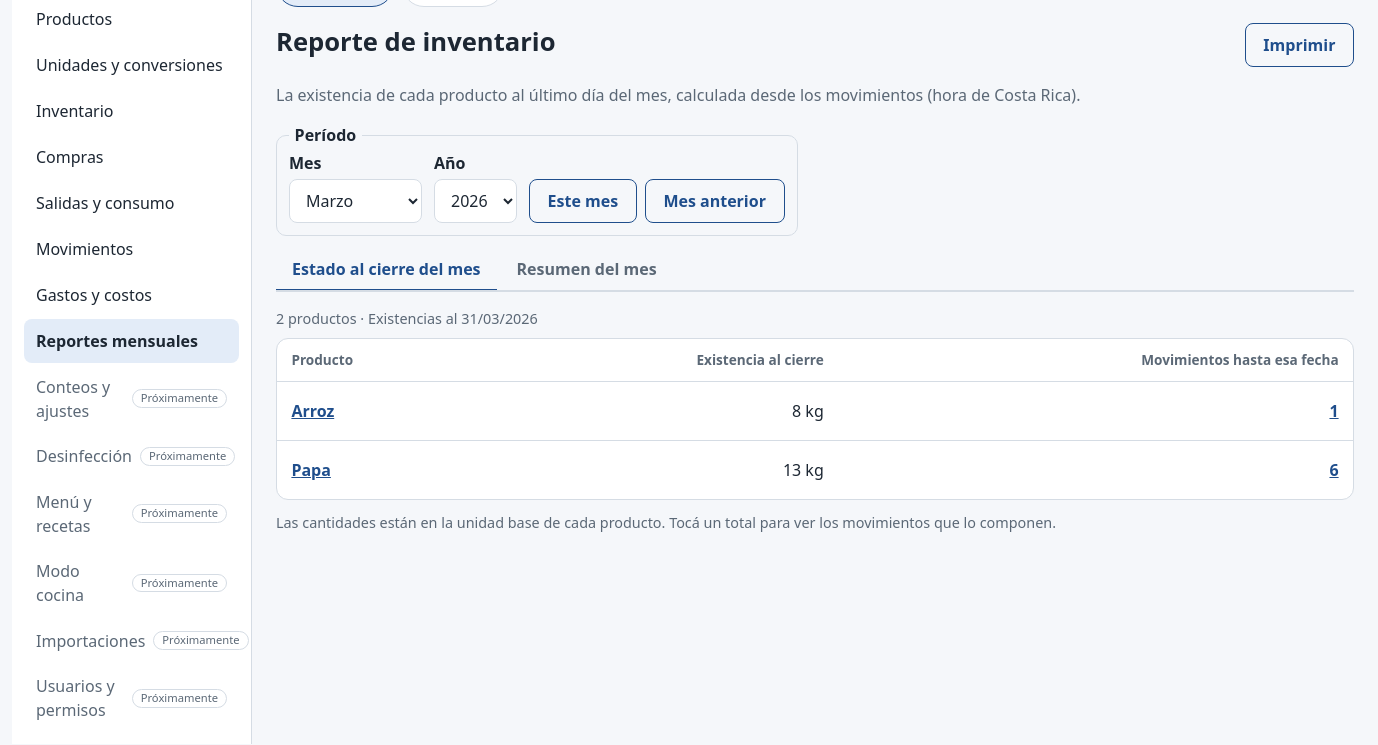
estado al cierre del mes › los movimientos de cada producto se pueden abrir y son exactamente los que componen la existencia
(page scrolled)
Expected: the table is shown, left=277, top=339, right=1353, bottom=498
Click the link named "Ver los 6 movimientos de Papa hasta el 31/03/2026".
click(1334, 470)  # box left=1330, top=452, right=1339, bottom=487
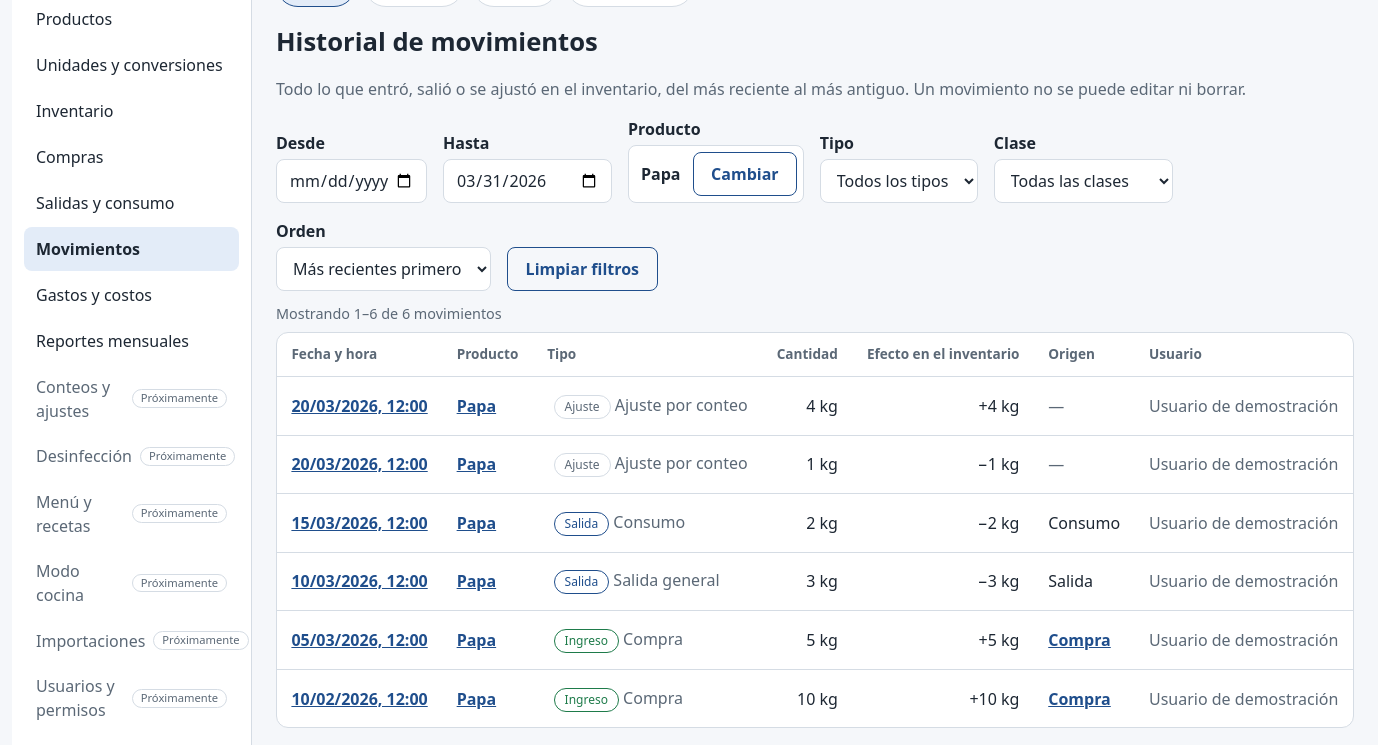
Result: the heading "Historial de movimientos" is shown at left=276, top=23, right=598, bottom=61
